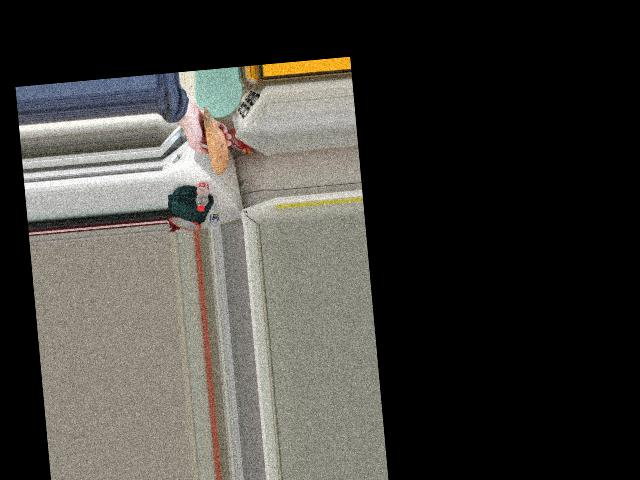sweet_potato: (206, 97, 232, 172)
